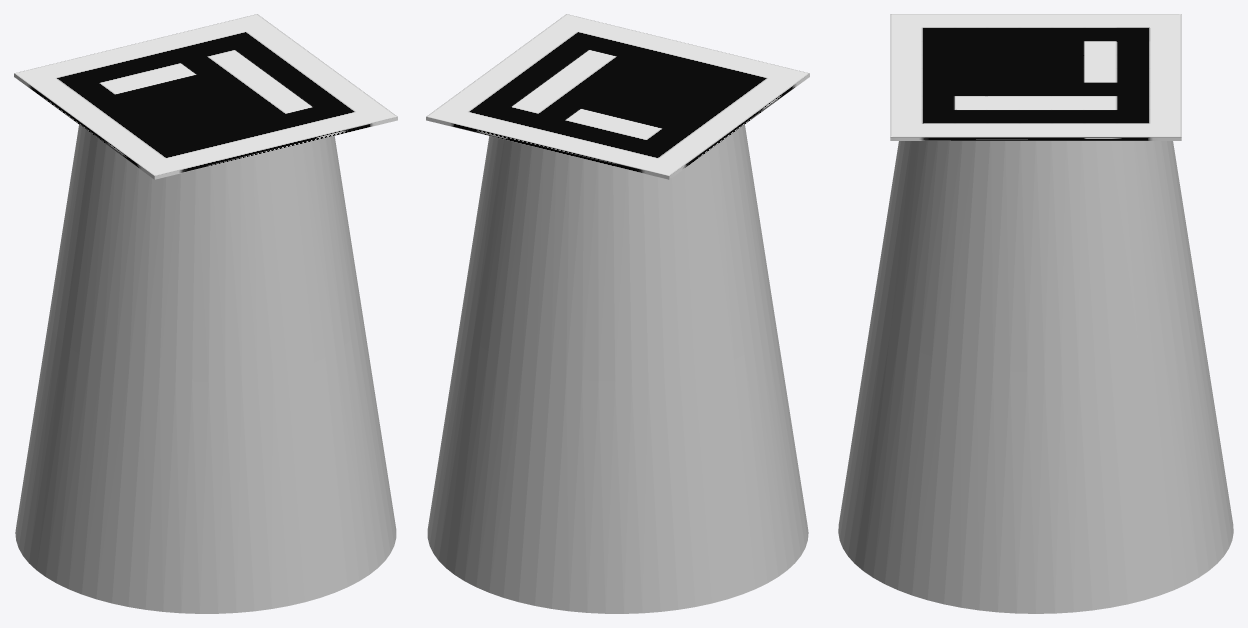
File: cup_aruco_1.dae
3 renders of one model, left to right at view 1: azimuth 30°, elevation 25°; view 2: azimuth 150°, elevation 25°; view 3: azimuth 270°, elevation 25°, orthographic. The views are drawn at different scales.
Visible parts, largest first — view 1: Cup_0, Cube; view 2: Cup_0, Cube; view 3: Cup_0, Cube.
Boxes of the visible parts, box(x1,y1,x2,y2) form: Cup_0: box(15, 125, 396, 613); Cube: box(14, 14, 397, 179); Cup_0: box(427, 125, 808, 613); Cube: box(426, 14, 809, 179); Cup_0: box(838, 141, 1233, 613); Cube: box(890, 14, 1181, 140).
Size of the model in its own units: 0.0949 by 0.095 by 0.1205.
Materials: 1 (1 with a texture image).
